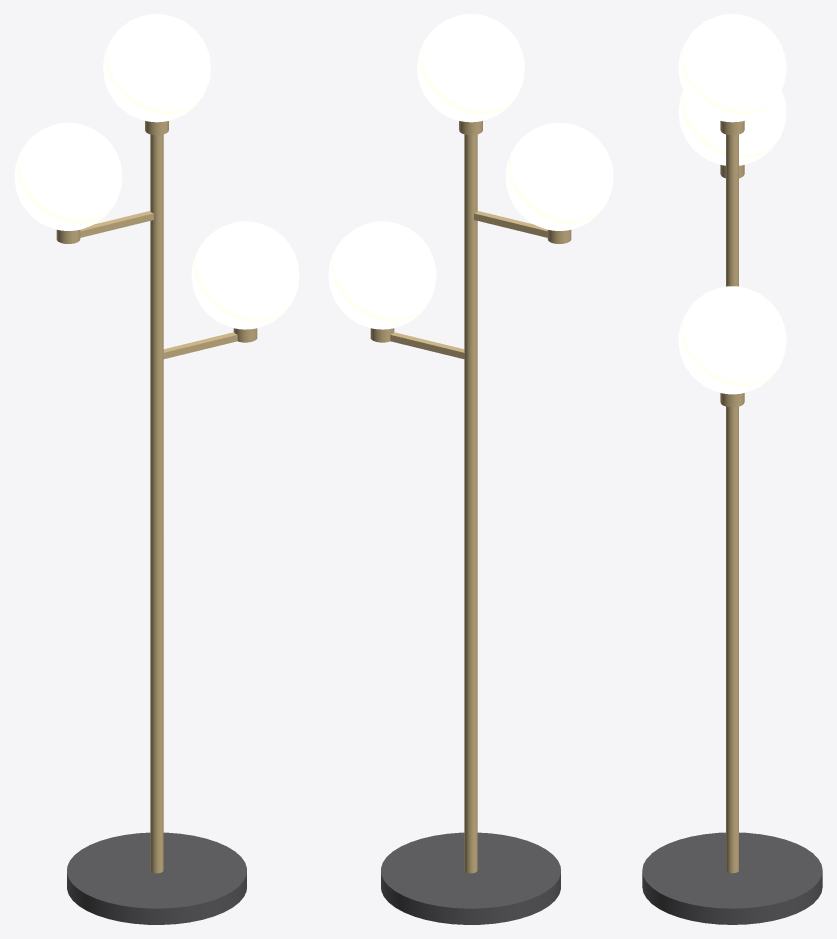
The model's file is obj-lamp-opal-globes-floor.glb.
3 renders of one model, left to right at view 1: azimuth 30°, elevation 25°; view 2: azimuth 150°, elevation 25°; view 3: azimuth 270°, elevation 25°, orthographic.
Parts seen in each view (by area): view 1: obj-lamp-opal-globes-floor; view 2: obj-lamp-opal-globes-floor; view 3: obj-lamp-opal-globes-floor.
Boxes of the visible parts, x1,y1,x2,y2 form: obj-lamp-opal-globes-floor: (14, 14, 299, 924); obj-lamp-opal-globes-floor: (328, 14, 613, 924); obj-lamp-opal-globes-floor: (642, 14, 822, 924).
Bounding box in the file's own units: 0.5199 × 1.59 × 0.3001.
